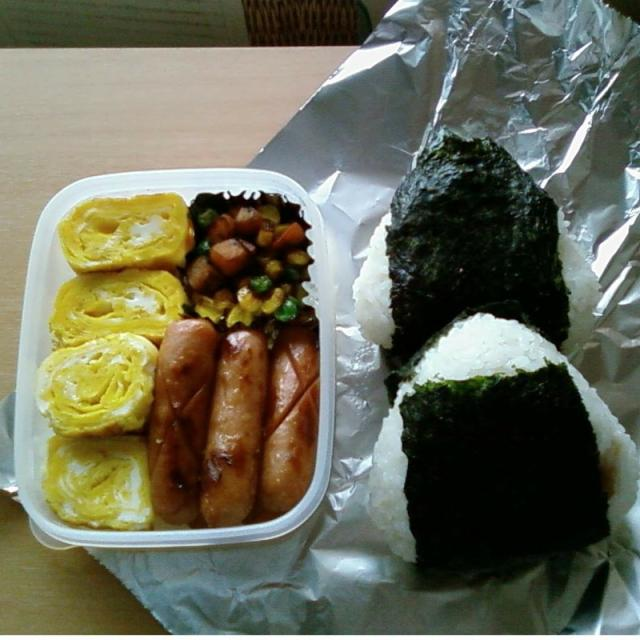米饭主食: (350, 294, 640, 585), (346, 107, 609, 366)
鸡蛋料理: (29, 182, 202, 533)
